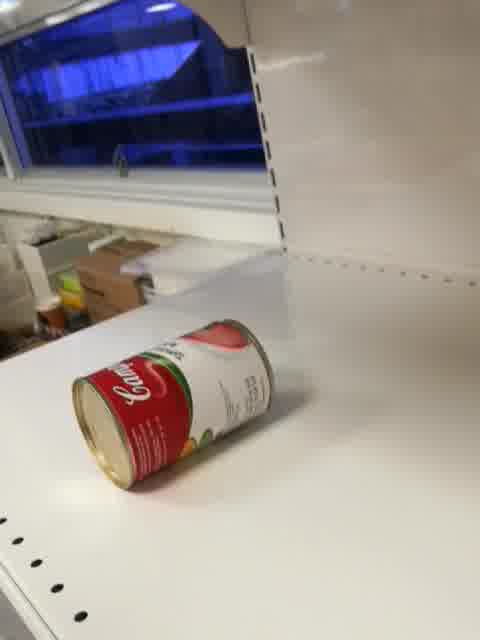tomatosoup: (70, 317, 275, 492)
